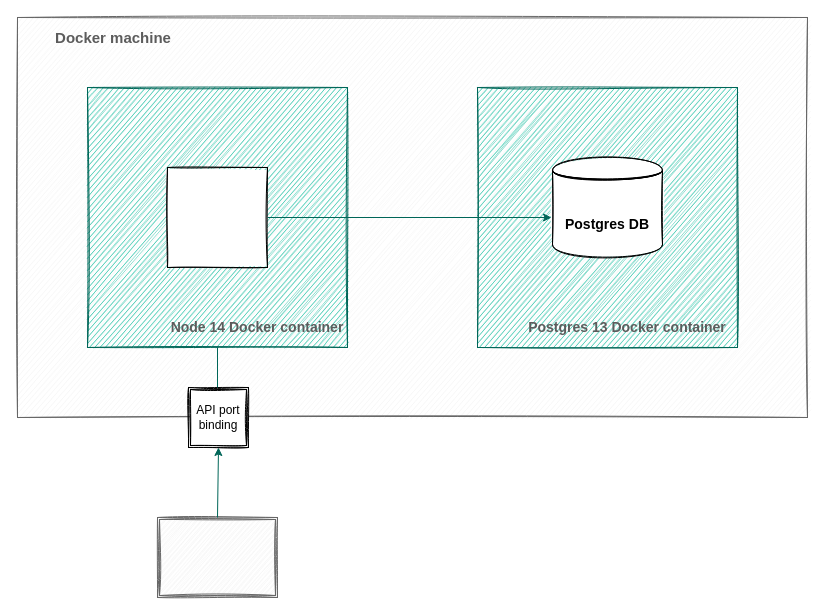
Some shapes in this 825 by 615 pixel diagram are drawn without their labels. The shapes that lost their labels are listed below. From the top down, each one's box as (x1, y1, x2, y2) in pixels, then its label:
(166, 166, 268, 268): REST API
(156, 516, 278, 598): API Client
